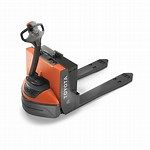Pallet Jack: (20, 20, 133, 119)
